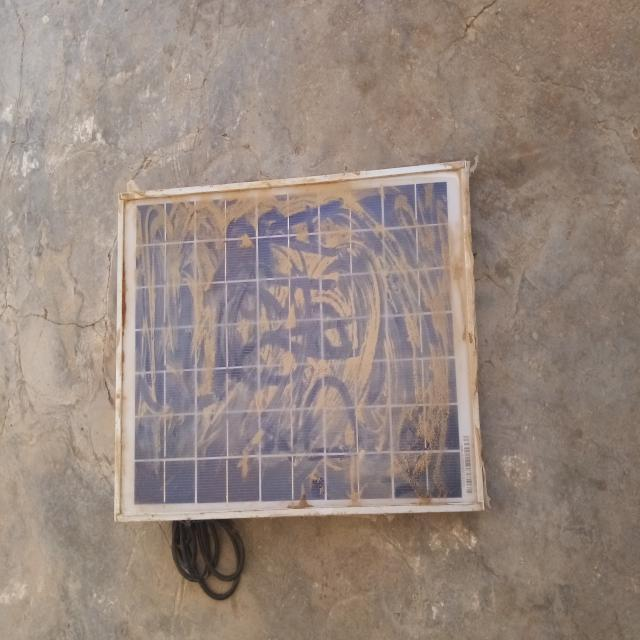faulty: (115, 158, 486, 521)
